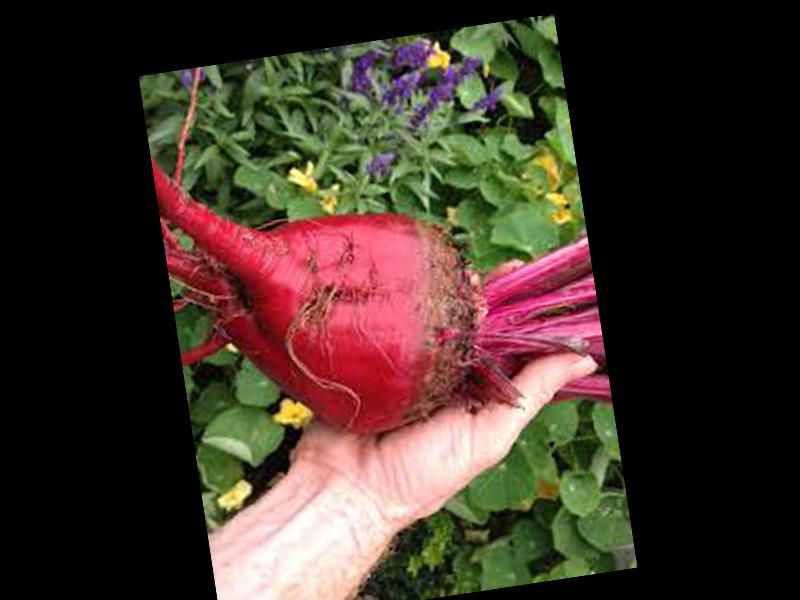Beet: (151, 102, 609, 460)
